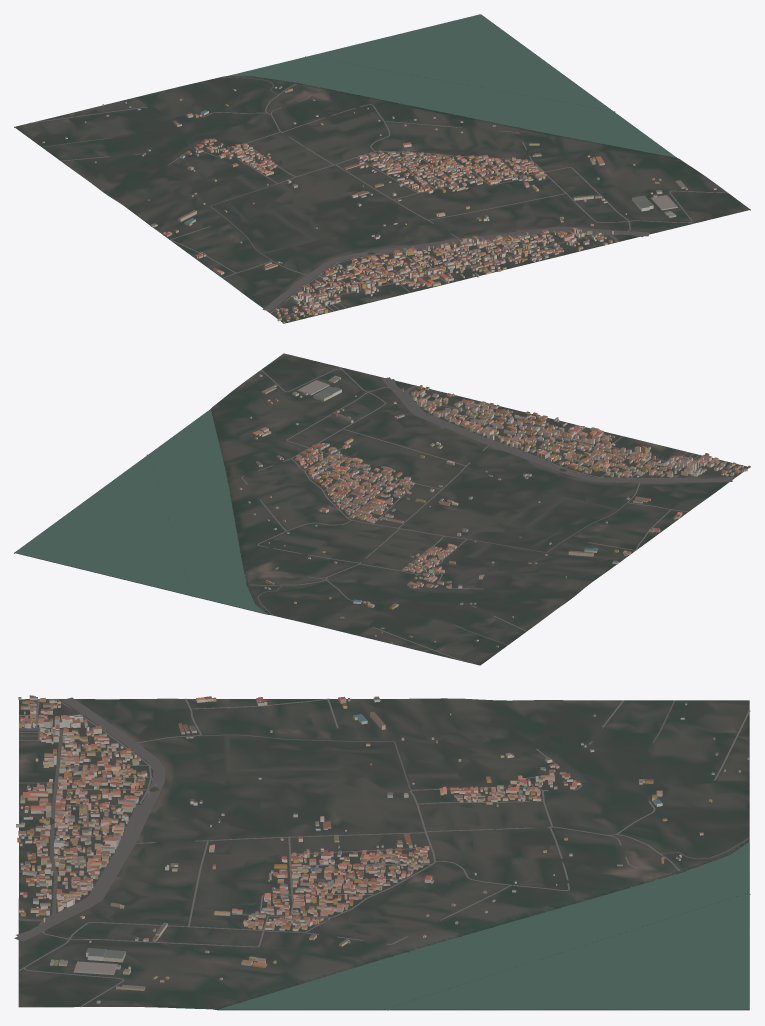
3 renders of one model, top to bottom at view 1: azimuth 30°, elevation 25°; view 2: azimuth 150°, elevation 25°; view 3: azimuth 270°, elevation 25°, orthographic. The views are drawn at different scales.
Parts seen in each view (by area): view 1: ground, water, buildings, roads; view 2: ground, water, buildings, roads; view 3: ground, water, buildings, roads.
Part boxes in pixels (<box>): ground: <box>14,14,750,323</box>; water: <box>228,14,675,157</box>; buildings: <box>42,86,716,323</box>; roads: <box>29,77,727,318</box>; ground: <box>14,353,748,665</box>; water: <box>15,409,267,614</box>; buildings: <box>239,374,750,647</box>; roads: <box>241,366,742,661</box>; ground: <box>18,698,749,1010</box>; water: <box>219,842,750,1010</box>; buildings: <box>16,695,749,1003</box>; roads: <box>14,697,750,1006</box>.
Bounding box in the file's own units: 1409 × 30.67 × 1414.
